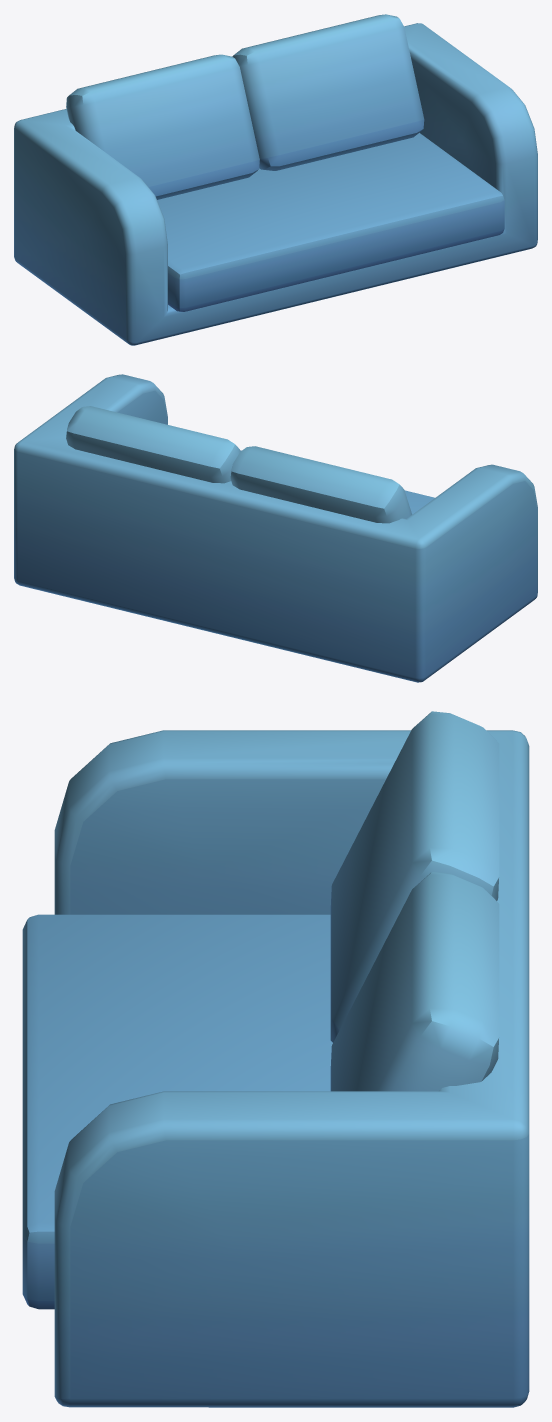
Rendered from kkf.couch.glb.
The picture shows the model from 3 angles, top to bottom: view 1: azimuth 30°, elevation 25°; view 2: azimuth 150°, elevation 25°; view 3: azimuth 270°, elevation 25°; orthographic projection. The views are drawn at different scales.
Visible parts, largest first — view 1: couch; view 2: couch; view 3: couch.
Boxes of the visible parts, x1,y1,x2,y2 form: couch: [14, 14, 537, 345]; couch: [14, 374, 537, 682]; couch: [22, 711, 529, 1407].
Bounding box in the file's own units: 2.15 × 0.8757 × 1.14.
1 material, 1 textured.
